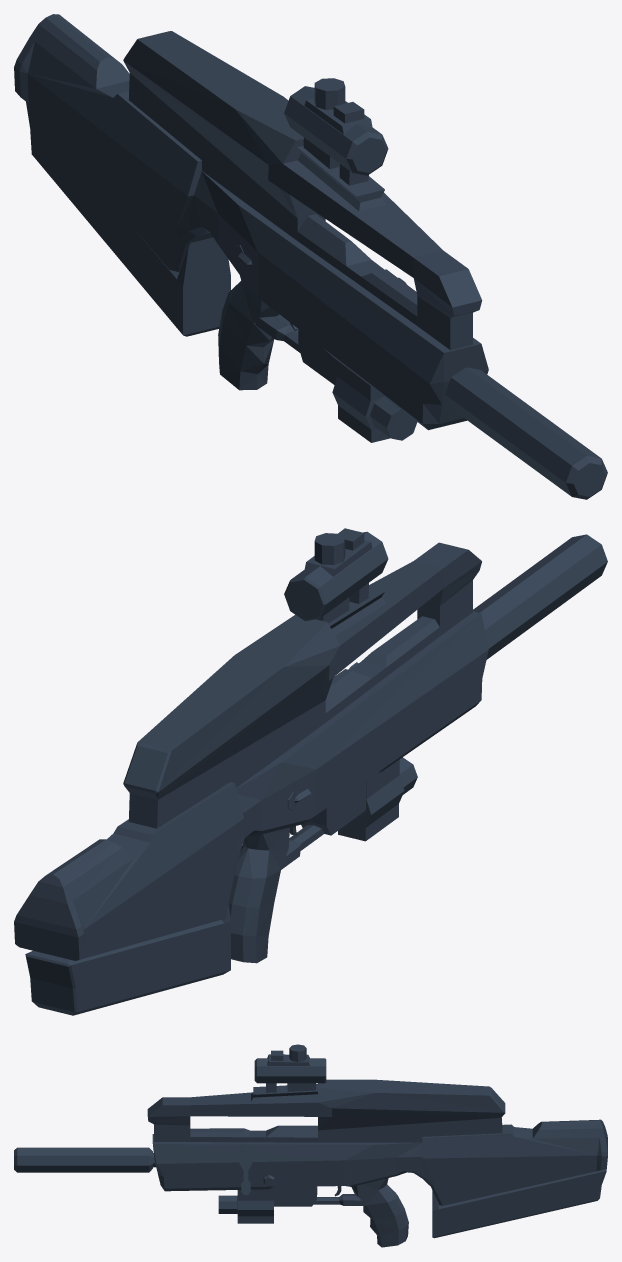
The model's file is rifle_01.FBX.
The picture shows the model from 3 angles, top to bottom: view 1: azimuth 30°, elevation 25°; view 2: azimuth 150°, elevation 25°; view 3: azimuth 270°, elevation 25°; orthographic projection. The views are drawn at different scales.
Parts seen in each view (by area): view 1: rifle_01; view 2: rifle_01; view 3: rifle_01.
Part boxes in pixels (box(x1,y1,x2,y2)): rifle_01: box(14, 14, 607, 499); rifle_01: box(14, 528, 607, 1015); rifle_01: box(14, 1044, 607, 1247).
Bounding box in the file's own units: 8.6 × 35.46 × 97.49.
